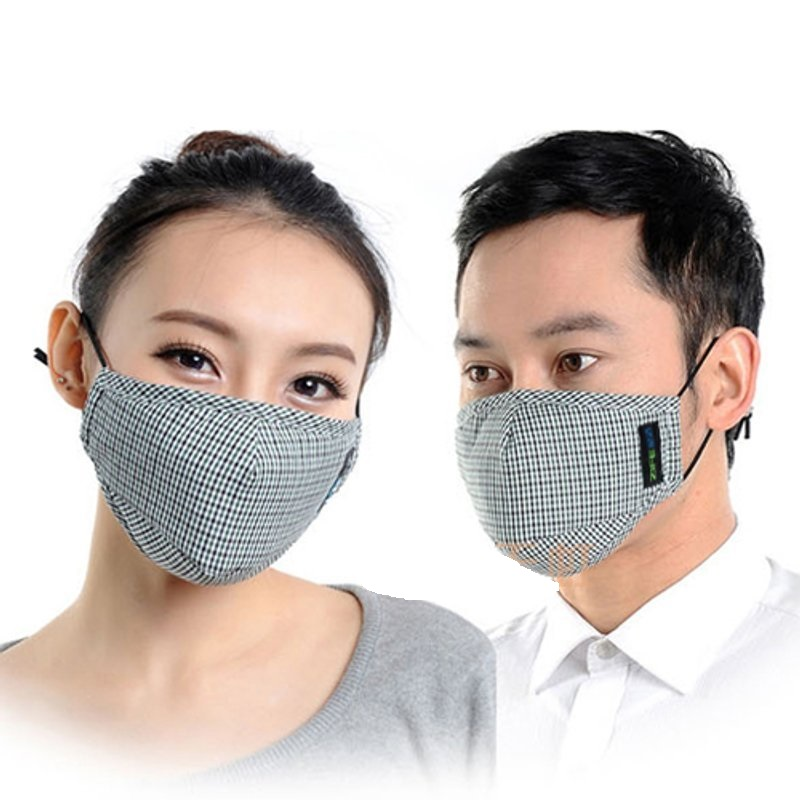face_mask: (96, 217, 370, 581), (450, 212, 704, 573)
